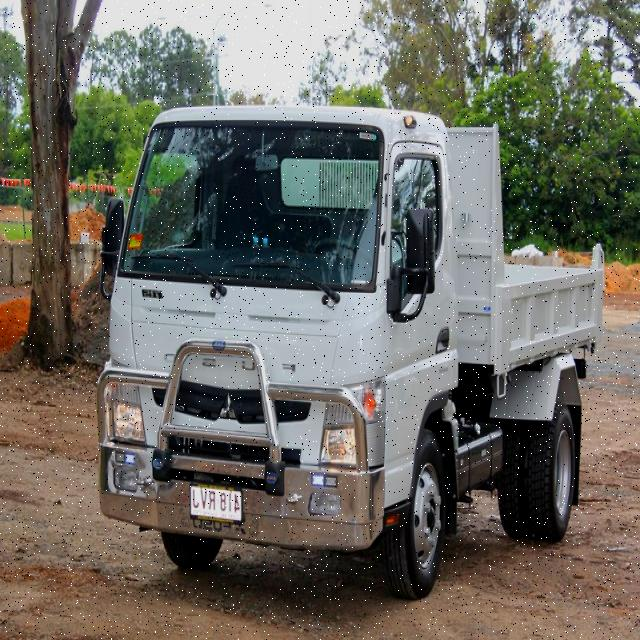truck: (95, 100, 606, 598)
